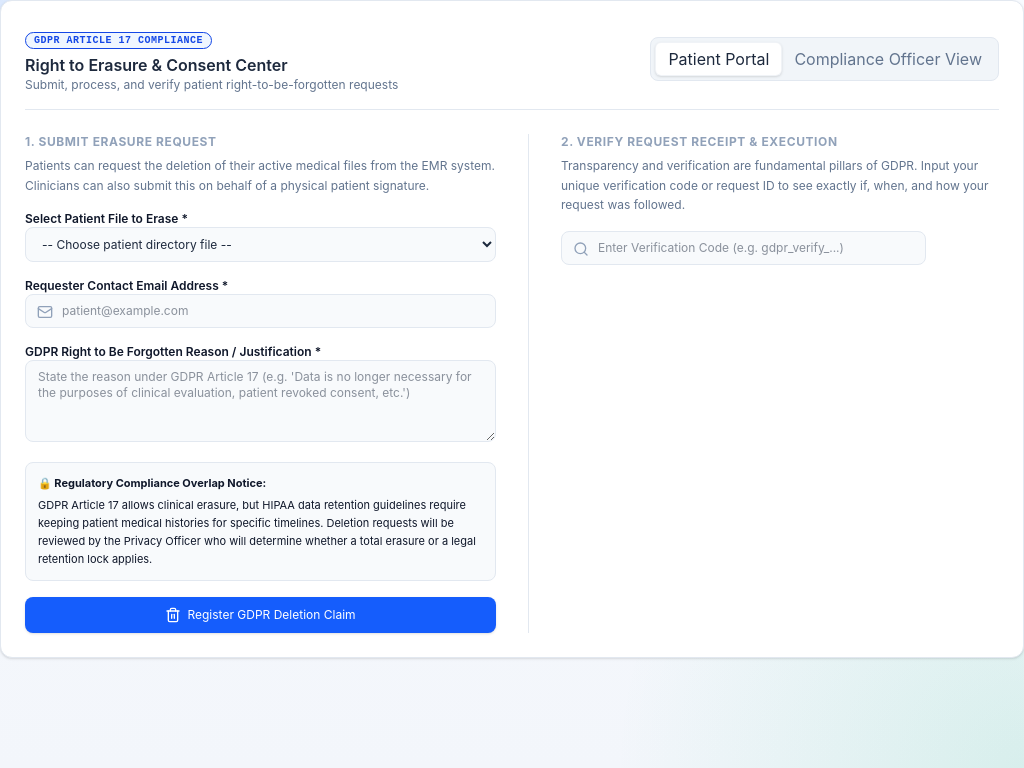
Test: GDPRManager erasure submission › posts the claim, shows the verification code and resets the form
This screenshot has width=1024, height=768.
Select "Amanda Parker (ID: pat_1, Born: 1984-02-11)" in the dropdown at (260, 244), box [25,227,496,262]
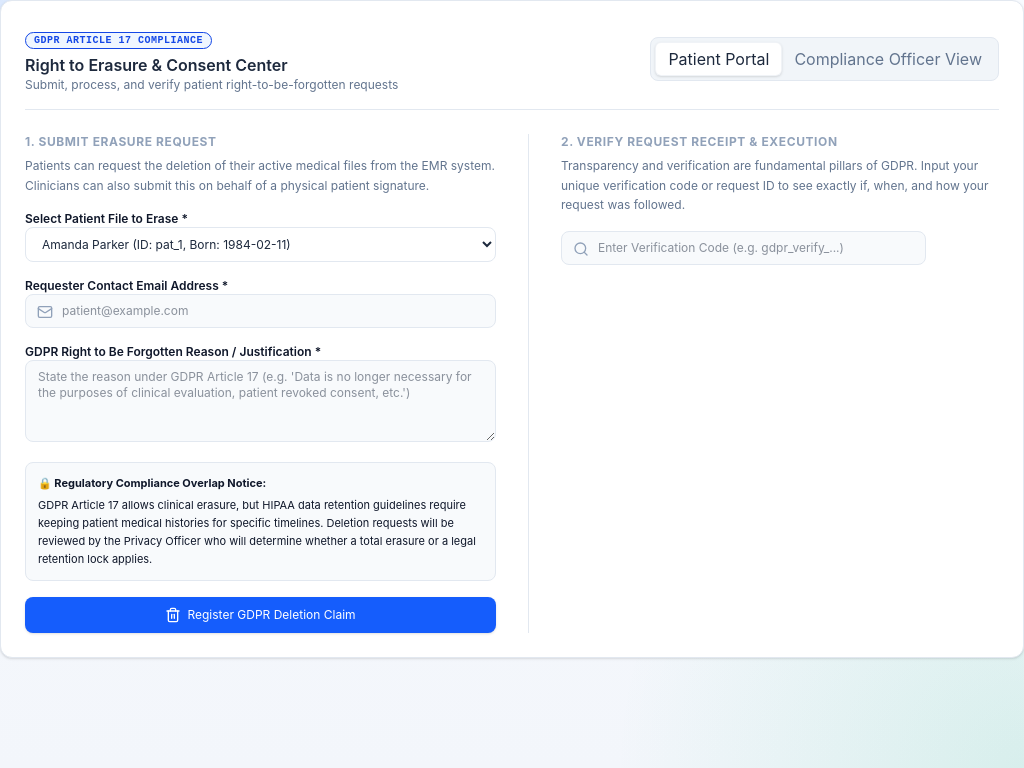
Type "amanda@example.com" into the field with placeholder "patient@example.com" at (260, 311), box [25,294,496,328]
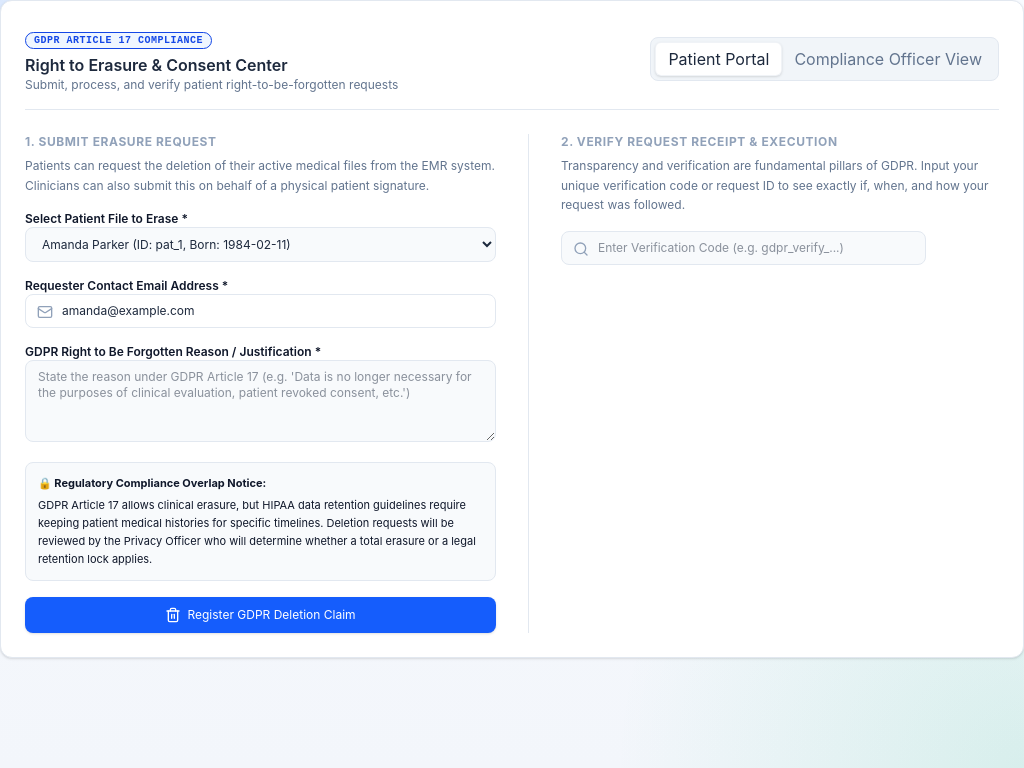
Type "Consent revoked" into the text box with placeholder "State the reason under GDPR Article 17" at (260, 401), box [25,360,496,442]
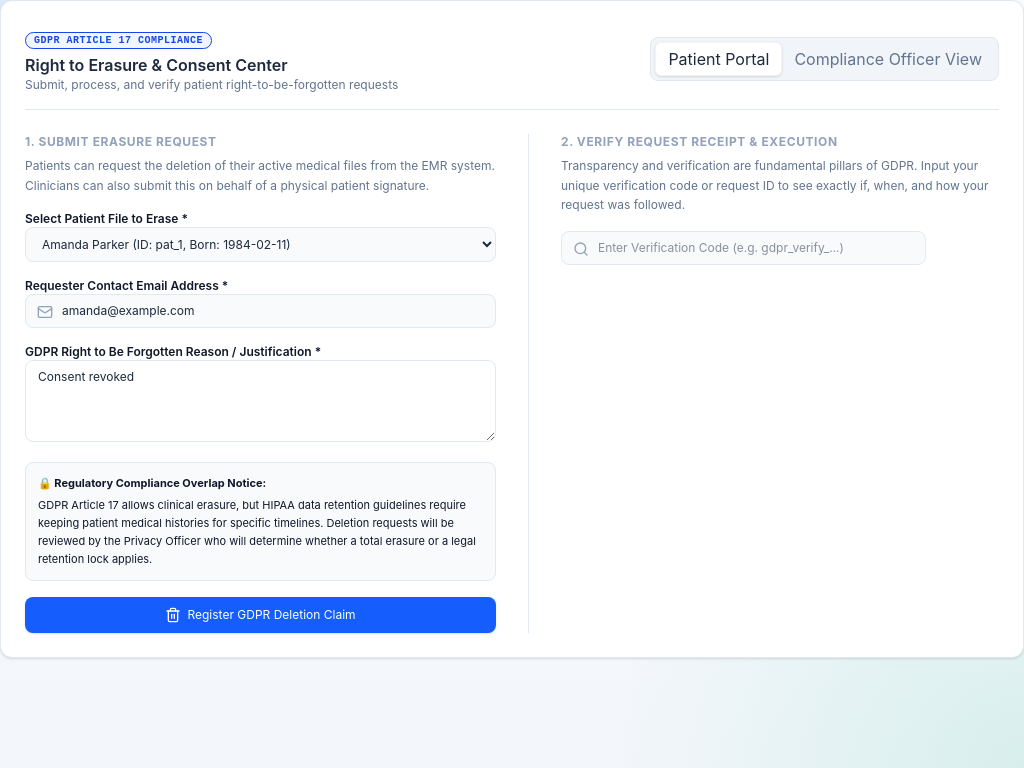
Click the button "Register GDPR Deletion Claim" at (260, 615), box [25,597,496,633]
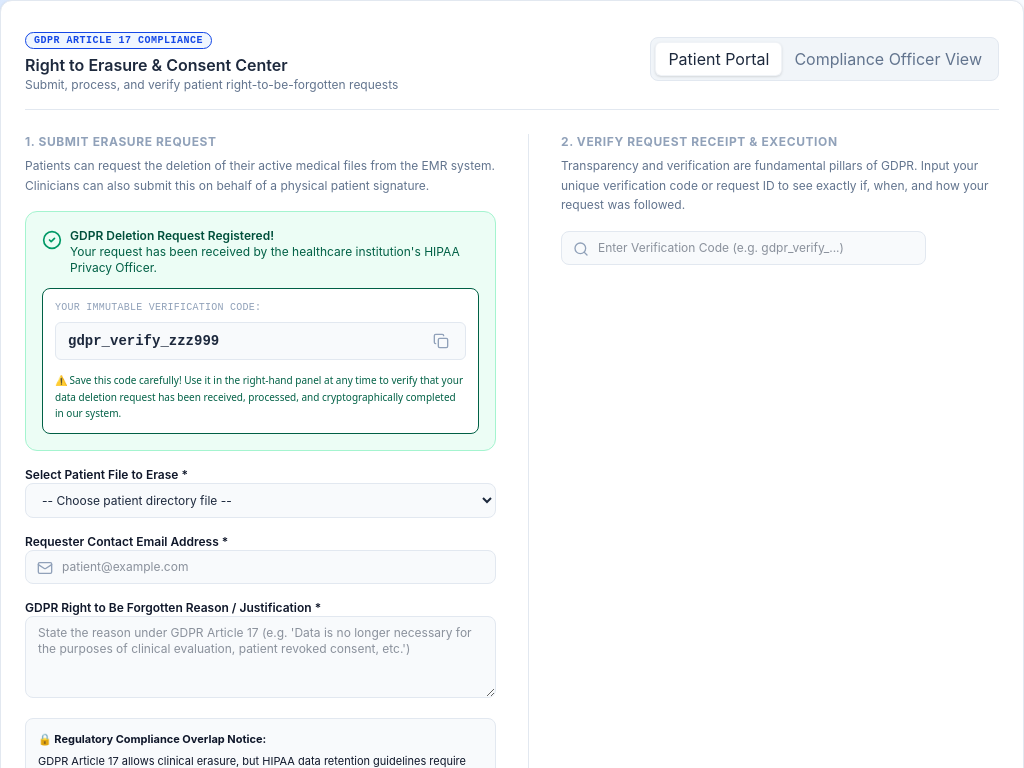
Expected: the text "gdpr_verify_zzz999" is shown, [68,331,219,351]
Expected: the field with placeholder "patient@example.com" is empty, [25,550,496,584]
